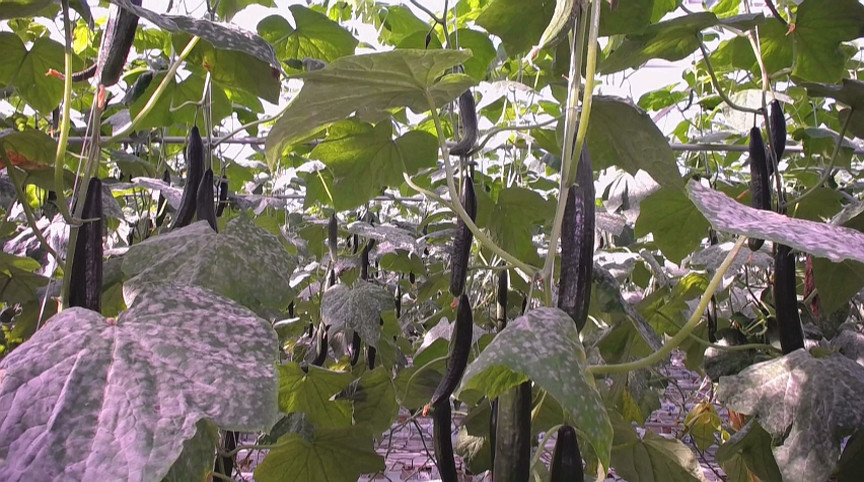cucumber: (565, 147, 596, 331), (70, 177, 103, 311), (432, 295, 472, 402), (95, 1, 141, 87), (497, 380, 531, 482), (170, 127, 201, 232), (775, 246, 805, 352), (450, 178, 474, 297), (748, 130, 766, 249), (432, 400, 456, 482), (450, 90, 477, 156), (553, 427, 583, 482), (197, 167, 218, 232)
